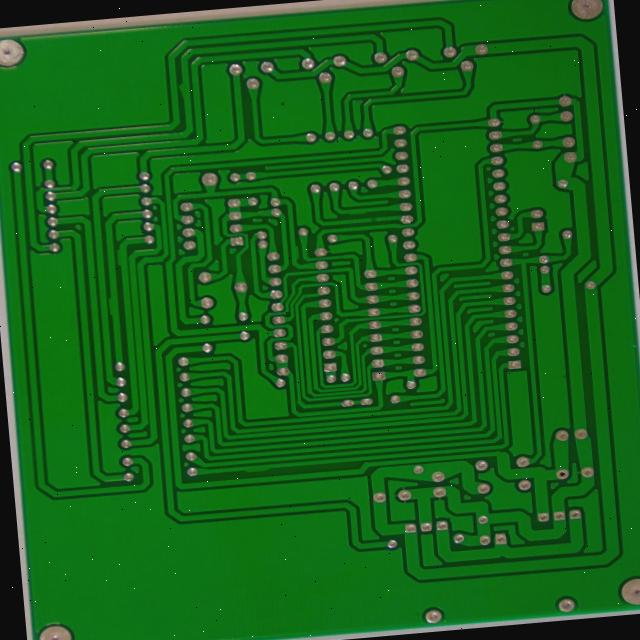spur: (244, 465, 281, 480), (115, 246, 130, 270), (179, 77, 194, 101), (352, 207, 380, 219), (106, 297, 120, 320)
